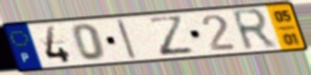0: (70, 22, 109, 63)
2: (201, 13, 237, 52)
4: (44, 25, 72, 65)
I: (114, 18, 139, 61)
R: (229, 7, 280, 54)
Z: (145, 15, 198, 59)
